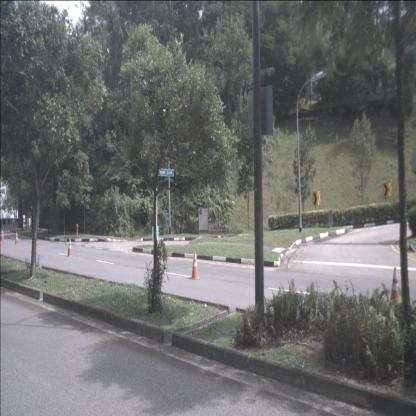movable_object-trafficcone: (387, 267, 403, 311), (189, 251, 201, 280), (66, 238, 74, 258), (13, 231, 19, 246), (0, 230, 6, 241)
